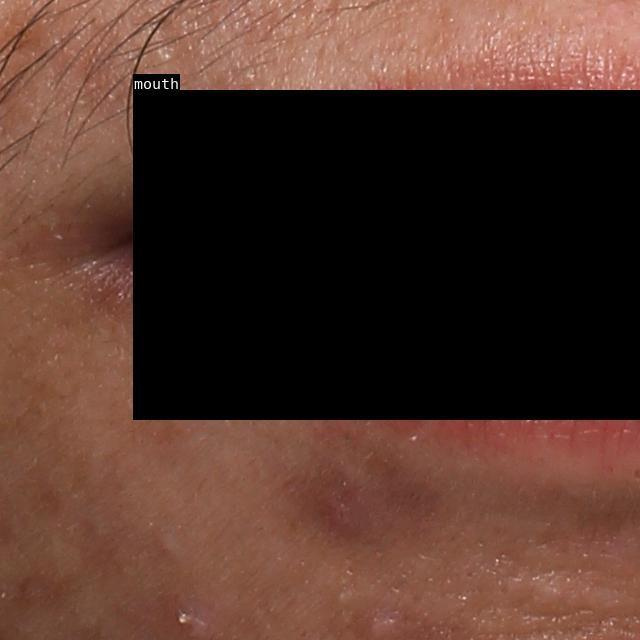comedo: (150, 531, 182, 558)
hypertrophic_scar: (514, 568, 619, 622)
